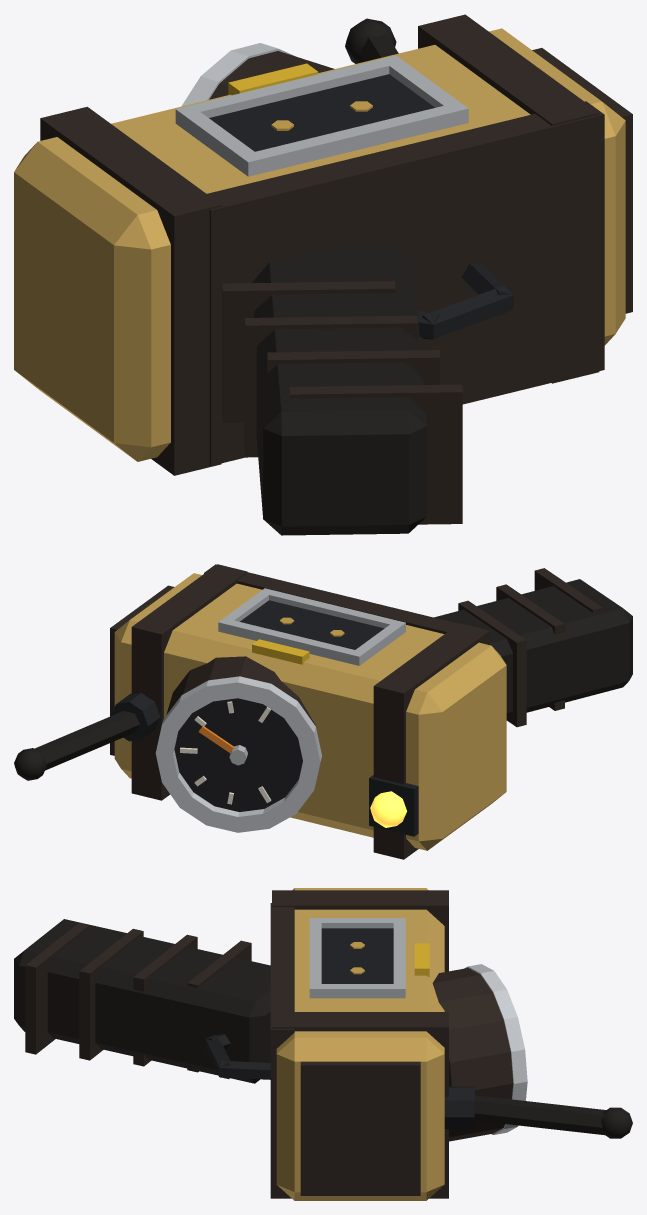
The model's file is receiver_worm.glb.
3 views of the same model, one above another, from view 1: azimuth 30°, elevation 25°; view 2: azimuth 150°, elevation 25°; view 3: azimuth 270°, elevation 25° (orthographic). The views are drawn at different scales.
Visible parts, largest first — view 1: receiver_worm; view 2: receiver_worm; view 3: receiver_worm.
Part boxes in pixels (left/top/right/bottom): receiver_worm: left=14, top=14, right=632, bottom=535; receiver_worm: left=14, top=564, right=632, bottom=859; receiver_worm: left=14, top=888, right=632, bottom=1200.
Size of the model in its own units: 0.1384 by 0.065 by 0.2063.
